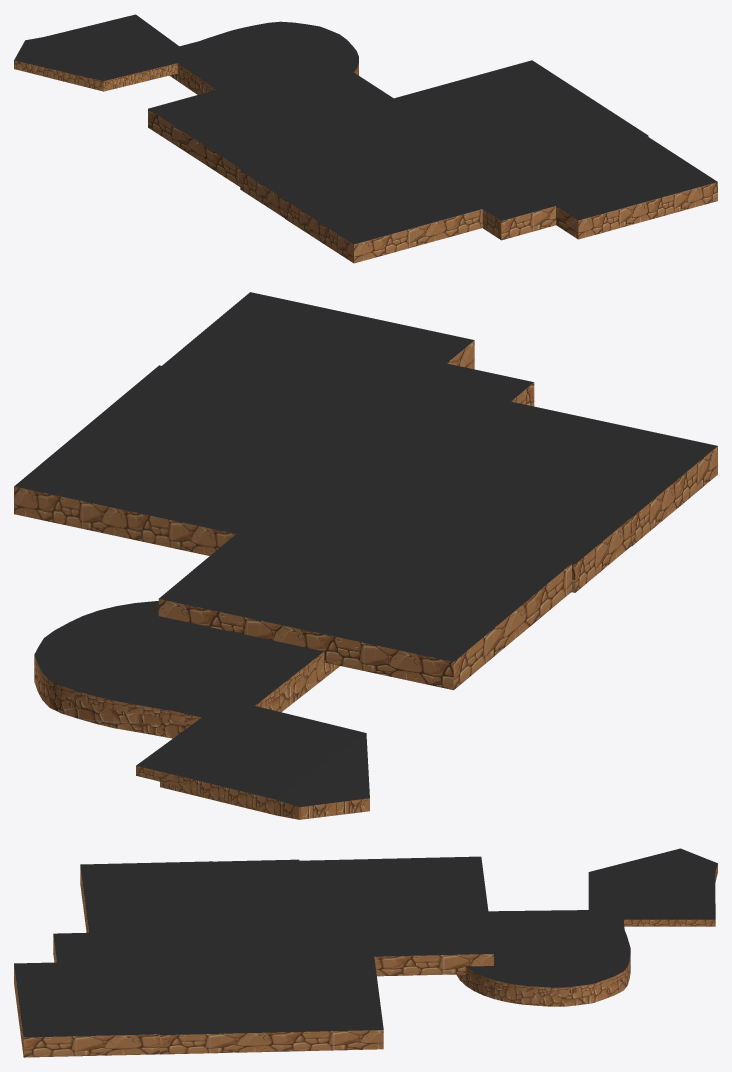
File: Island 2 kumari and alumni.glb
3 renders of one model, top to bottom at view 1: azimuth 30°, elevation 25°; view 2: azimuth 150°, elevation 25°; view 3: azimuth 270°, elevation 25°, orthographic. The views are drawn at different scales.
Parts seen in each view (by area): view 1: polySurface1022, polySurface1104.001; view 2: polySurface1022, polySurface1104.001; view 3: polySurface1022, polySurface1104.001.
Boxes of the visible parts, bbox=[...] form: polySurface1022: bbox=[148, 58, 717, 263]; polySurface1104.001: bbox=[14, 14, 358, 94]; polySurface1022: bbox=[14, 292, 717, 690]; polySurface1104.001: bbox=[34, 601, 369, 819]; polySurface1022: bbox=[14, 856, 493, 1057]; polySurface1104.001: bbox=[456, 848, 717, 1006].
Size of the model in its own units: 11.63 by 0.8416 by 17.22.
6 materials, 5 textured.
